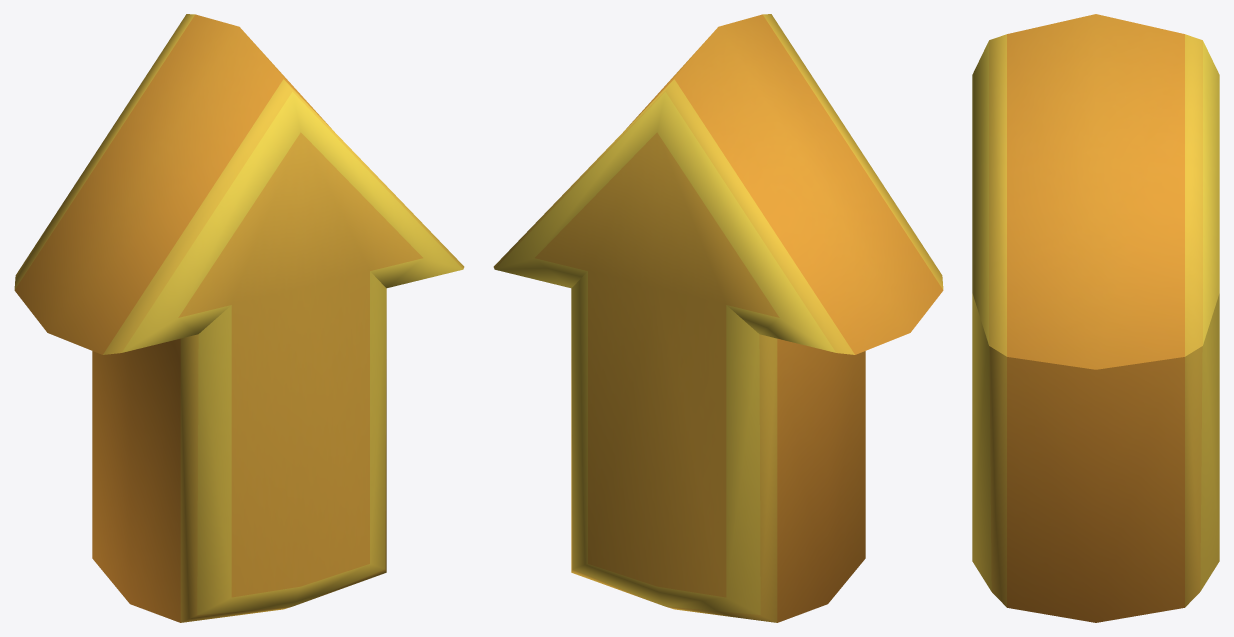
The model's file is powerup_arrow_1_LOD1_cube_mat_0.glb.
3 views of the same model, side by side, from view 1: azimuth 30°, elevation 25°; view 2: azimuth 150°, elevation 25°; view 3: azimuth 270°, elevation 25° (orthographic).
Visible parts, largest first — view 1: powerup_arrow_1_LOD1_cube_mat_0; view 2: powerup_arrow_1_LOD1_cube_mat_0; view 3: powerup_arrow_1_LOD1_cube_mat_0.
Boxes of the visible parts, <box> form: powerup_arrow_1_LOD1_cube_mat_0: <box>14,14,464,622</box>; powerup_arrow_1_LOD1_cube_mat_0: <box>493,14,943,622</box>; powerup_arrow_1_LOD1_cube_mat_0: <box>972,14,1219,622</box>.
Size of the model in its own units: 1.1 by 1.55 by 0.6105.
Materials: 1 (1 with a texture image).
